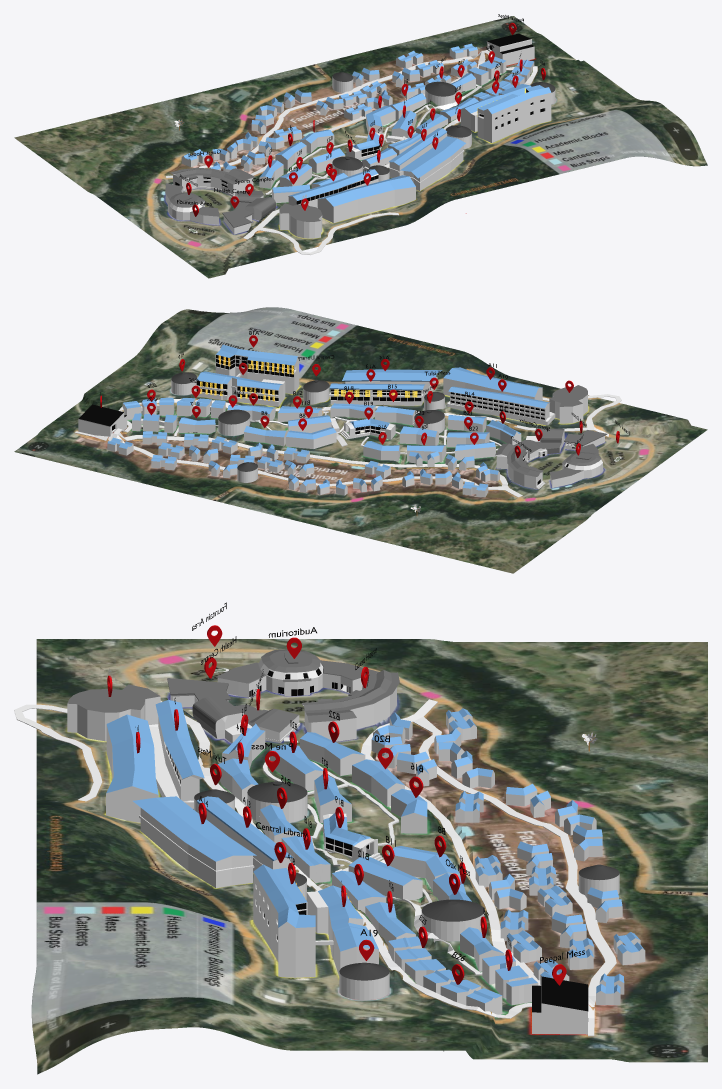
Rendered from map2NOTREE.glb.
3 renders of one model, top to bottom at view 1: azimuth 30°, elevation 25°; view 2: azimuth 150°, elevation 25°; view 3: azimuth 270°, elevation 25°, orthographic. The views are drawn at different scales.
Visible parts, largest first — view 1: Dharti, A17+A18, A13 + A14, A11, Road, Guest House, Auditorium, A9, A10, Peepal Mess, Plane.001, Plane (+15 smaller); view 2: Dharti, A17+A18, A13 + A14, Road, A10, A11, Auditorium, Guest House, A9, Peepal Mess, Plane, B19 (+24 smaller); view 3: Dharti, Road, A17+A18, A13 + A14, Auditorium, A11, Guest House, A10, A9, Plane, Peepal Mess, Oak Mess (+29 smaller).
Boxes of the visible parts, <box> form: Dharti: <box>14,16,707,278</box>; A17+A18: <box>460,84,551,142</box>; A13 + A14: <box>388,128,465,190</box>; A11: <box>317,175,415,223</box>; Road: <box>166,50,537,254</box>; Guest House: <box>170,167,255,196</box>; Auditorium: <box>165,183,219,224</box>; A9: <box>279,203,322,238</box>; A10: <box>288,169,378,207</box>; Peepal Mess: <box>486,33,534,65</box>; Plane.001: <box>265,84,481,194</box>; Plane: <box>235,191,276,220</box>; Dharti: <box>14,307,707,573</box>; A17+A18: <box>196,344,299,406</box>; A13 + A14: <box>329,369,442,405</box>; Road: <box>74,394,621,497</box>; A10: <box>447,386,555,425</box>; A11: <box>443,367,542,400</box>; Auditorium: <box>550,443,602,487</box>; Guest House: <box>495,443,545,489</box>; A9: <box>549,385,587,423</box>; Peepal Mess: <box>78,404,127,436</box>; Plane: <box>514,428,564,460</box>; B19: <box>340,418,395,439</box>; Dharti: <box>31,639,707,1074</box>; Road: <box>14,699,616,1036</box>; A17+A18: <box>253,864,378,977</box>; A13 + A14: <box>133,796,293,888</box>; Auditorium: <box>216,649,378,697</box>; A11: <box>106,714,158,822</box>; Guest House: <box>301,670,399,741</box>; A10: <box>149,699,204,808</box>; A9: <box>67,684,160,741</box>; Plane: <box>192,697,300,742</box>; Peepal Mess: <box>532,976,588,1034</box>; Oak Mess: <box>421,899,484,941</box>.
Size of the model in its own units: 627 by 143 by 436.
Materials: 15 (1 with a texture image).
